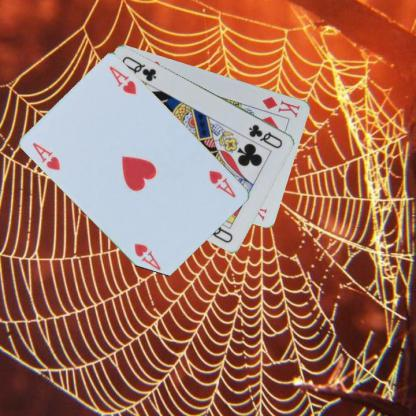Ah: (30, 139, 62, 172), (206, 168, 238, 198)
Kd: (260, 93, 302, 118)
Qc: (246, 121, 284, 150)
